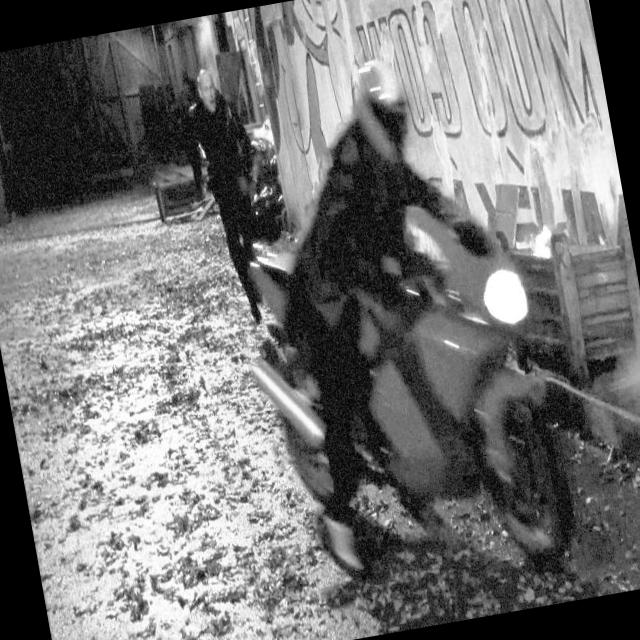Motorcycle: (235, 192, 604, 600)
Person: (253, 57, 460, 424), (160, 63, 284, 340)
